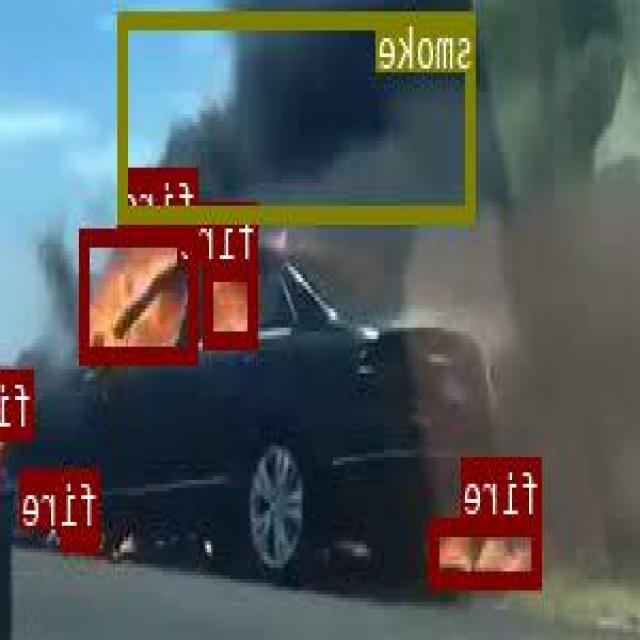fire: (83, 227, 199, 362), (433, 517, 542, 585), (205, 262, 260, 343), (4, 368, 35, 434), (64, 526, 102, 545)
smoke: (120, 10, 477, 220)
